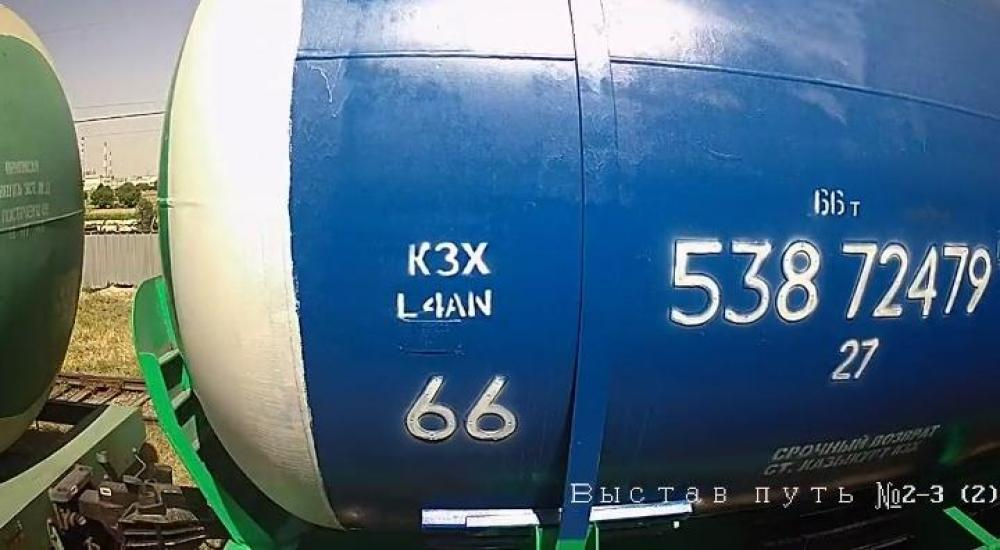Wagon-number: (663, 234, 997, 332)
